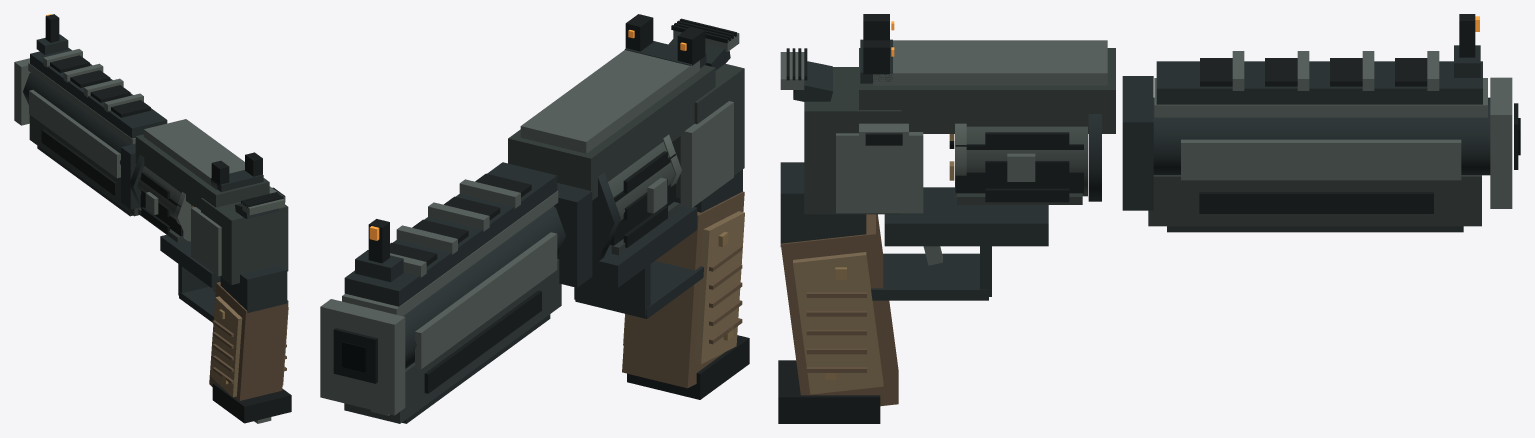
3 views of the same model, side by side, from view 1: azimuth 30°, elevation 25°; view 2: azimuth 150°, elevation 25°; view 3: azimuth 270°, elevation 25° (orthographic). The views are drawn at different scales.
Visible parts, largest first — view 1: Merged_material (×6), six-shot cylinder; view 2: Merged_material (×6), six-shot cylinder, muzzle bore; view 3: Merged_material (×6), six-shot cylinder.
Boxes of the visible parts, left/top/right/bottom form: Merged_material (×6): left=14, top=14, right=291, bottom=423; six-shot cylinder: left=137, top=166, right=181, bottom=219; Merged_material (×6): left=320, top=14, right=749, bottom=423; six-shot cylinder: left=608, top=142, right=674, bottom=246; muzzle bore: left=342, top=341, right=366, bottom=372; Merged_material (×6): left=778, top=14, right=1518, bottom=423; six-shot cylinder: left=966, top=126, right=1087, bottom=196.
Bounding box in the file's own units: 0.108 × 0.2985 × 0.5025.
